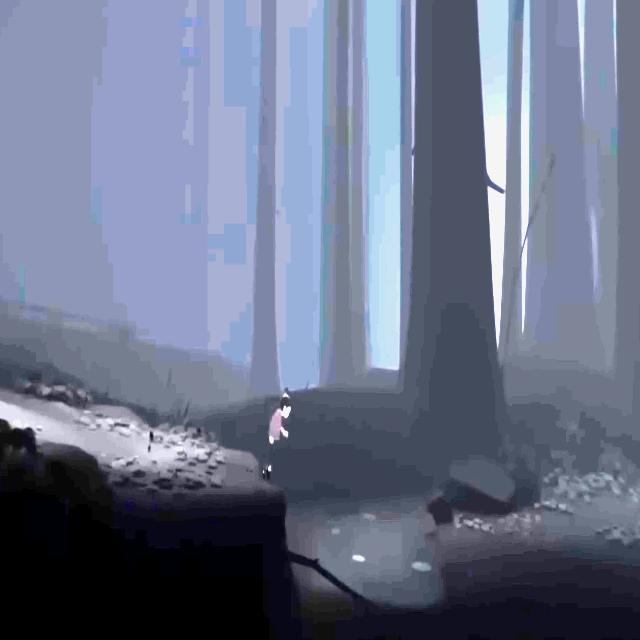boy: (263, 393, 292, 477)
